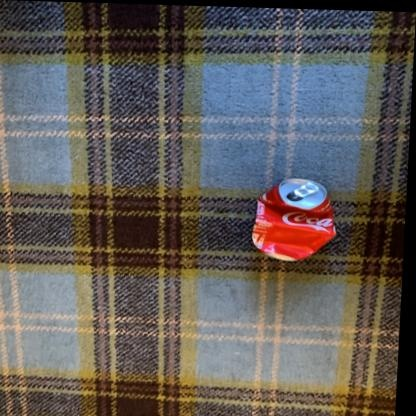trash: (252, 178, 335, 260)
